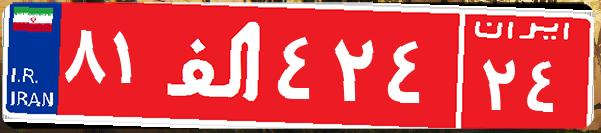1: (110, 28, 158, 105)
2: (330, 28, 385, 110), (475, 38, 525, 113)
4: (385, 28, 445, 110), (273, 28, 330, 110), (525, 38, 570, 115)
8: (57, 26, 110, 107)
الف: (158, 15, 273, 115)
